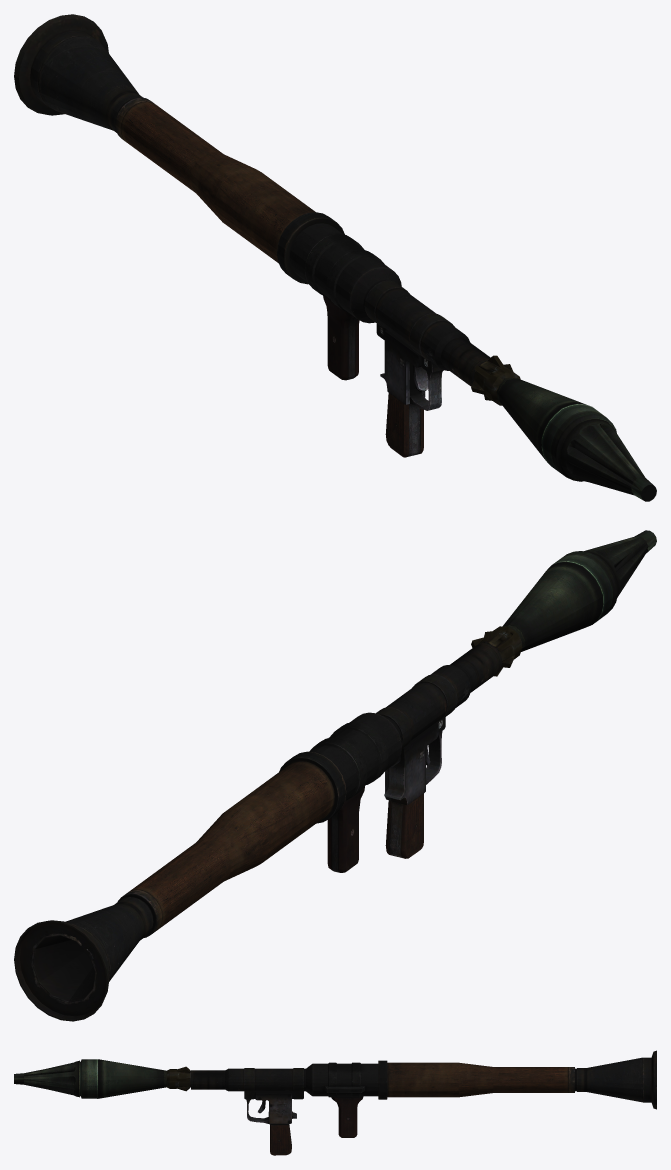
File: rocketLancher.FBX
3 renders of one model, top to bottom at view 1: azimuth 30°, elevation 25°; view 2: azimuth 150°, elevation 25°; view 3: azimuth 270°, elevation 25°, orthographic. The views are drawn at different scales.
Parts seen in each view (by area): view 1: Lancher, Rocket; view 2: Lancher, Rocket; view 3: Lancher, Rocket.
Part boxes in pixels (bbox=[...]): Lancher: bbox=[14, 14, 490, 457]; Rocket: bbox=[471, 355, 656, 501]; Lancher: bbox=[14, 643, 502, 1021]; Rocket: bbox=[471, 530, 656, 676]; Lancher: bbox=[191, 1050, 656, 1155]; Rocket: bbox=[14, 1059, 190, 1098].
Size of the model in its own units: 4.74 by 51.38 by 8.84.
2 materials, 2 textured.
